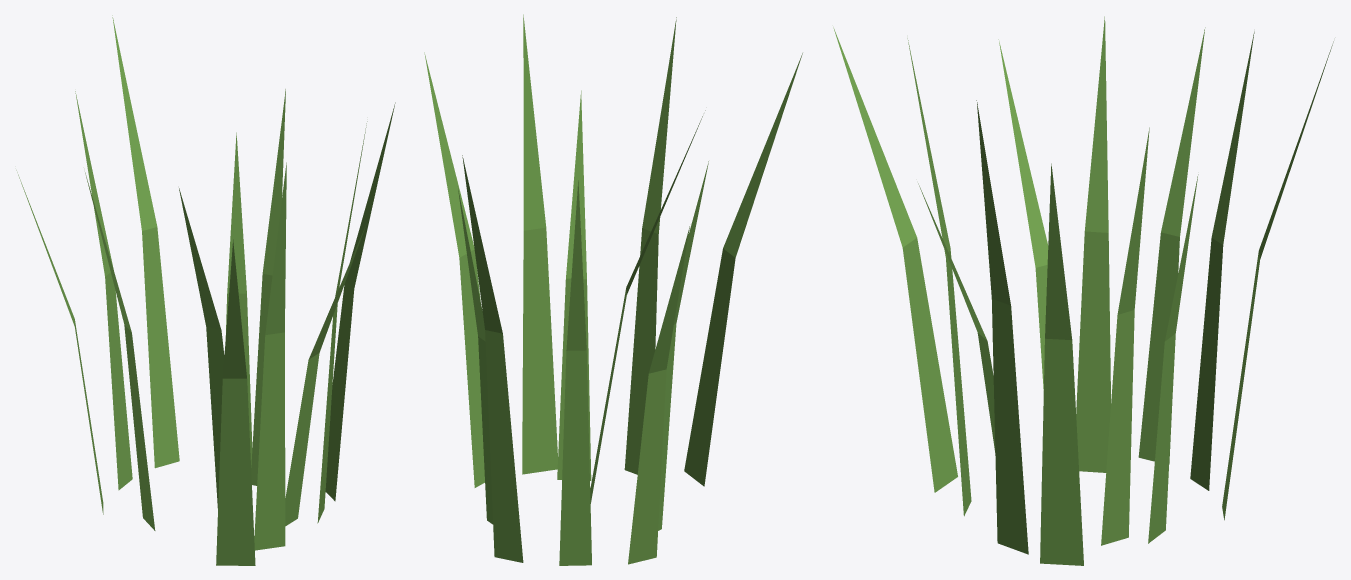
File: grass_tall.glb
3 renders of one model, left to right at view 1: azimuth 30°, elevation 25°; view 2: azimuth 150°, elevation 25°; view 3: azimuth 270°, elevation 25°, orthographic. The views are drawn at different scales.
Visible parts, largest first — view 1: GRASS_TALL; view 2: GRASS_TALL; view 3: GRASS_TALL.
Part boxes in pixels (x1,y1,x2,y2): GRASS_TALL: (16,15,395,565); GRASS_TALL: (424,14,802,565); GRASS_TALL: (833,16,1333,565).
Size of the model in its own units: 0.7467 by 0.9429 by 0.9018.
